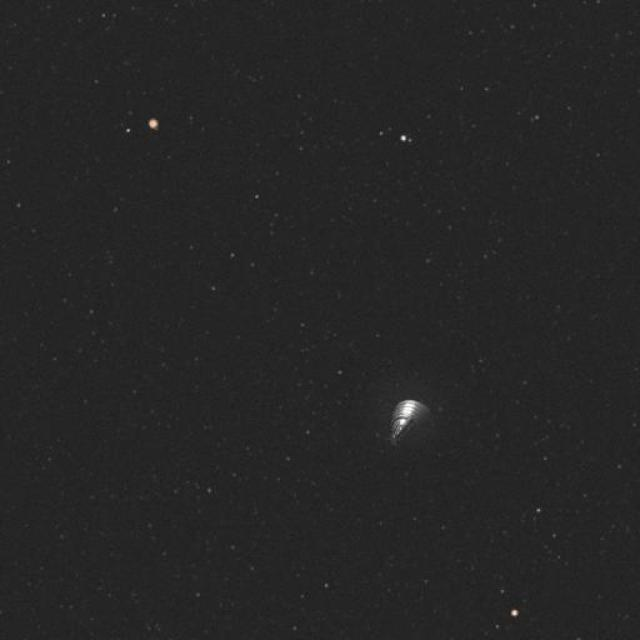debris: (366, 390, 449, 461)
